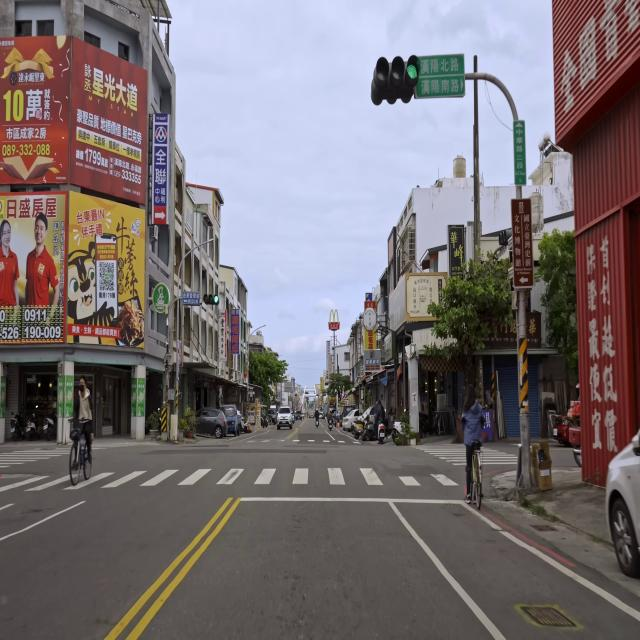green light: (372, 55, 419, 105), (203, 294, 219, 305)
